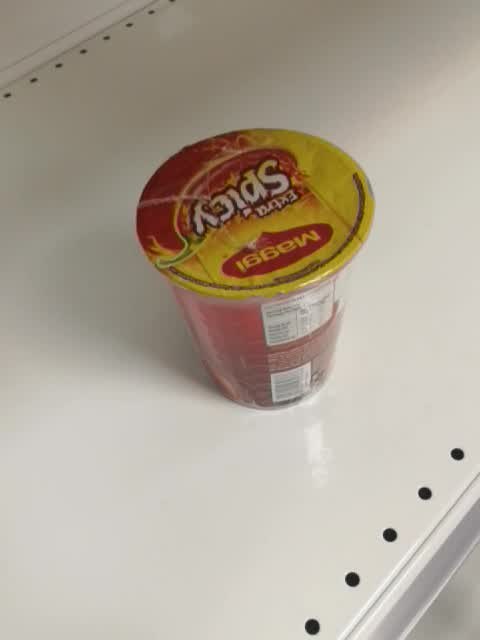maggi: (134, 124, 376, 412)
